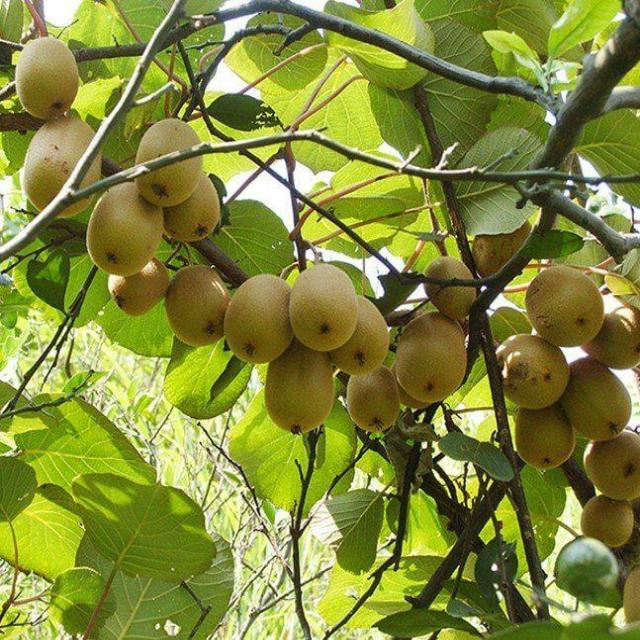kiwi: (23, 111, 108, 223), (84, 180, 167, 276), (224, 270, 299, 368), (395, 309, 469, 407), (261, 345, 337, 440), (527, 264, 609, 348), (558, 356, 634, 445), (494, 331, 575, 413), (289, 261, 360, 354), (136, 117, 207, 208), (325, 292, 398, 380), (12, 35, 81, 124), (164, 261, 233, 349), (581, 288, 640, 373), (471, 217, 539, 287), (161, 175, 225, 249), (344, 366, 405, 443), (514, 403, 577, 476), (581, 428, 640, 505), (109, 254, 172, 321), (423, 254, 481, 323), (577, 493, 637, 555)
